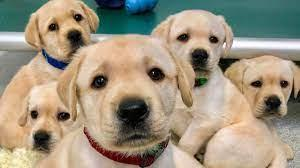Dog: (76, 36, 190, 150), (152, 9, 235, 69), (231, 52, 300, 119), (22, 0, 100, 59), (21, 79, 72, 149)
